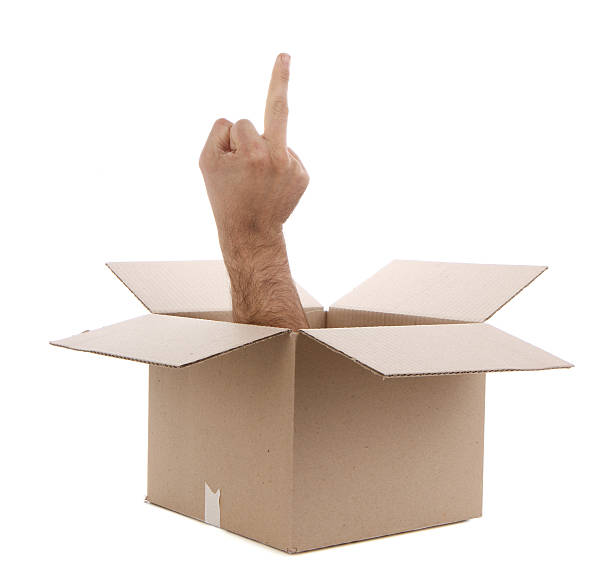insulting_gesture: (194, 49, 314, 258)
